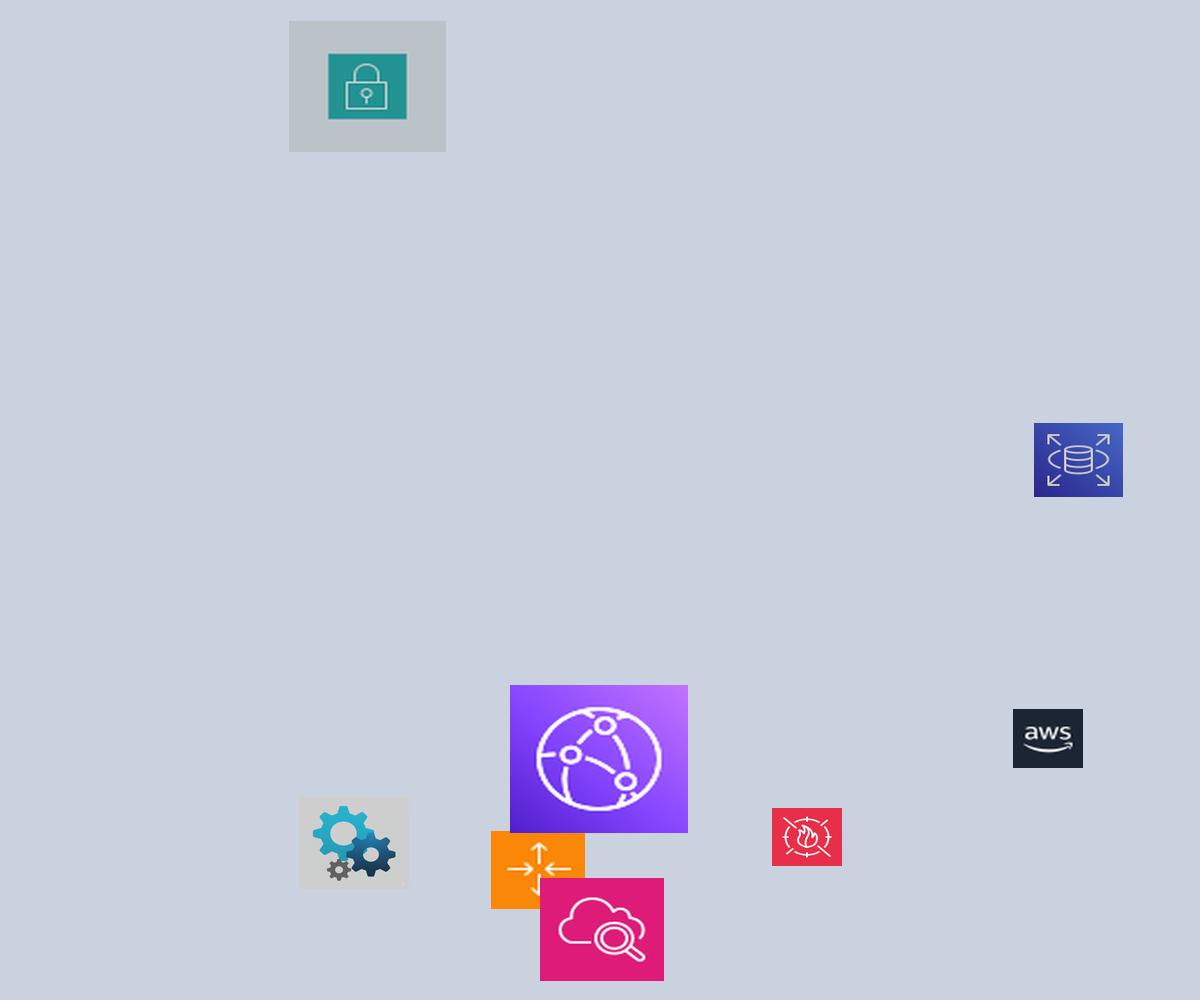AWS-Cloud-logo: (1013, 709, 1083, 768)
AWS-CloudFront: (510, 685, 688, 833)
AWS-CloudWatch: (540, 878, 664, 981)
AWS-Private-subnet: (289, 21, 446, 152)
AWS-RDS: (1034, 423, 1123, 497)
AWS-Scaling-group: (491, 831, 585, 909)
AWS-WAF: (772, 808, 842, 866)
Azure_api: (299, 797, 409, 889)
